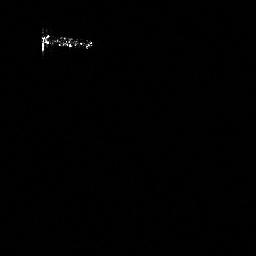ship: (38, 23, 95, 59)
